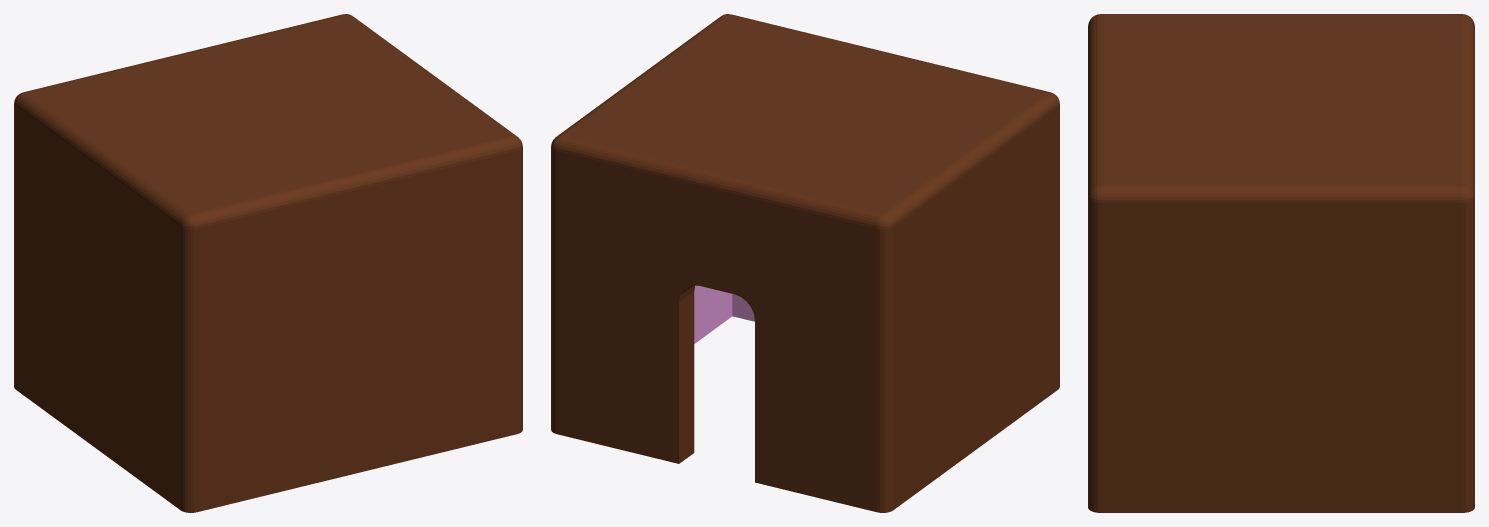
Rendered from hut.fbx.
The picture shows the model from 3 angles, left to right: view 1: azimuth 30°, elevation 25°; view 2: azimuth 150°, elevation 25°; view 3: azimuth 270°, elevation 25°; orthographic projection. The views are drawn at different scales.
Parts seen in each view (by area): view 1: Hut; view 2: Hut; view 3: Hut.
Boxes of the visible parts, x1,y1,x2,y2 form: Hut: (14,14,522,512); Hut: (551,14,1059,512); Hut: (1088,14,1474,512).
Bounding box in the file's own units: 2582 × 2131 × 2324.
